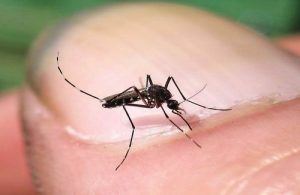dengue_mosquito: (57, 69, 201, 148)
